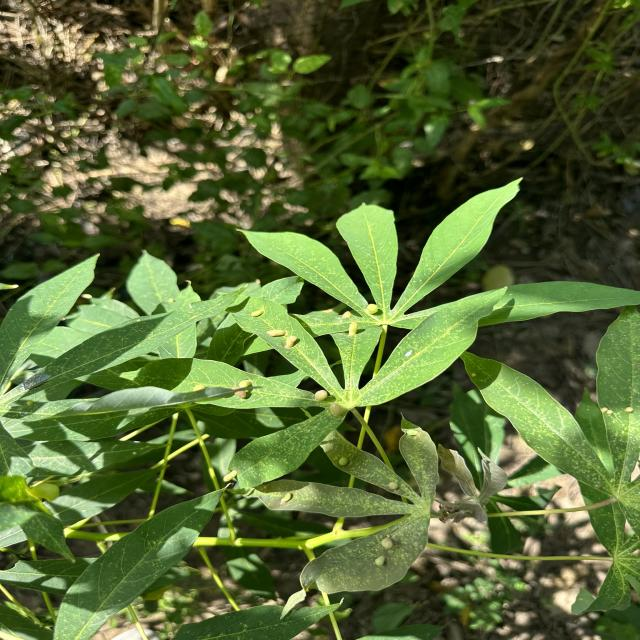Maleza: (90, 0, 503, 179)
Mosca: (263, 324, 303, 356), (379, 466, 409, 501), (373, 531, 397, 567), (229, 376, 258, 402), (340, 307, 359, 340), (360, 297, 387, 319), (307, 384, 336, 404), (619, 398, 640, 420), (243, 303, 266, 323), (334, 447, 354, 469), (275, 488, 295, 508), (598, 402, 615, 418)
